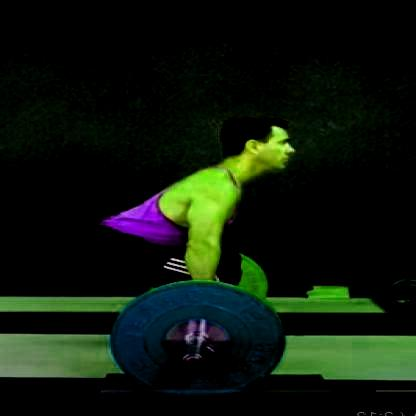Barbell: (178, 351, 205, 372)
